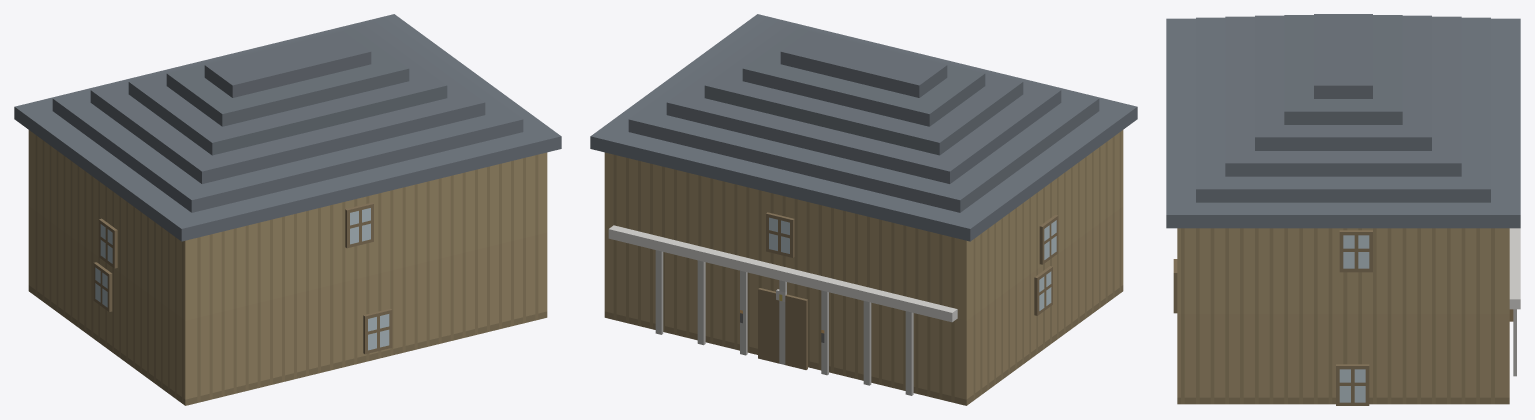
The model's file is casa_gremio_04.glb.
The picture shows the model from 3 angles, left to right: view 1: azimuth 30°, elevation 25°; view 2: azimuth 150°, elevation 25°; view 3: azimuth 270°, elevation 25°; orthographic projection. The views are drawn at different scales.
Parts seen in each view (by area): view 1: casa_gremio_04; view 2: casa_gremio_04; view 3: casa_gremio_04.
Boxes of the visible parts, bbox=[...] form: casa_gremio_04: bbox=[14, 14, 561, 405]; casa_gremio_04: bbox=[590, 14, 1137, 405]; casa_gremio_04: bbox=[1166, 14, 1520, 405].
Bounding box in the file's own units: 12.6 × 7.8 × 9.6.
